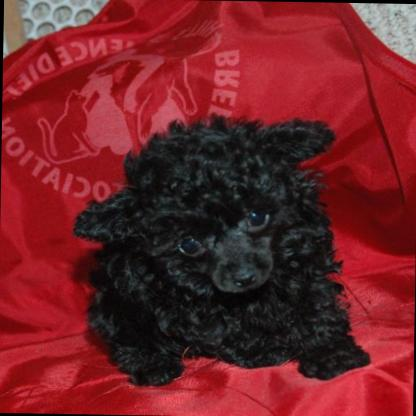toy_poodle: (64, 96, 374, 396)
